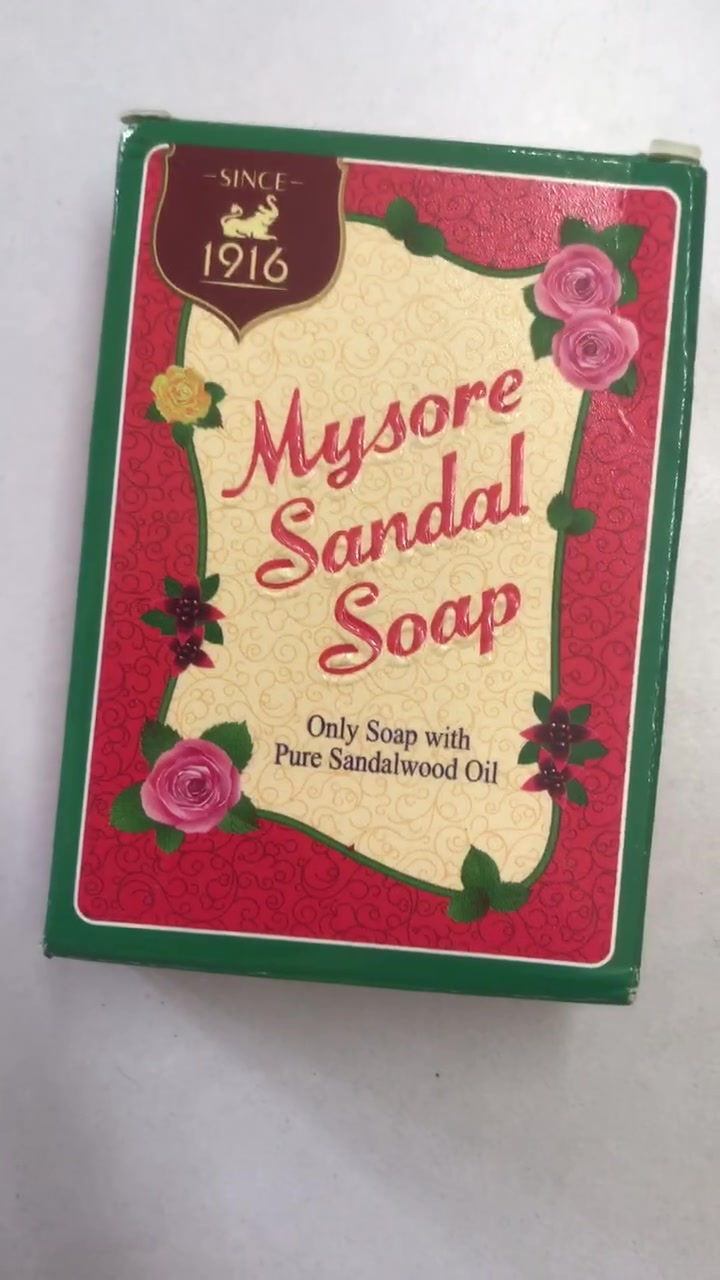mysore sandal soap: (51, 118, 708, 1005)
